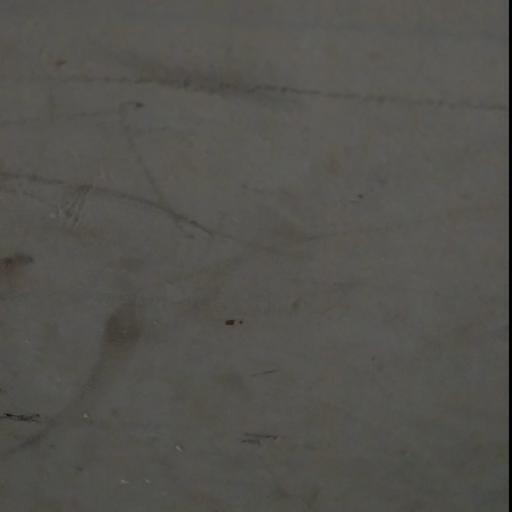stain: (33, 48, 389, 474)
